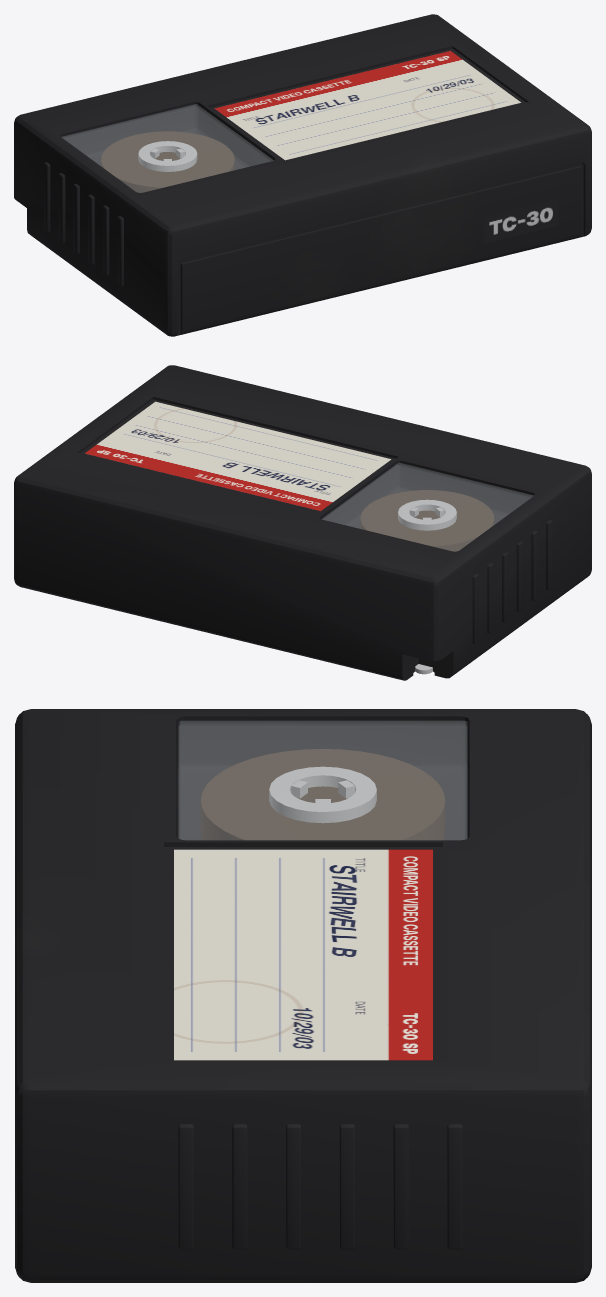
The model's file is Tape.glb.
3 renders of one model, top to bottom at view 1: azimuth 30°, elevation 25°; view 2: azimuth 150°, elevation 25°; view 3: azimuth 270°, elevation 25°, orthographic. The views are drawn at different scales.
Visible parts, largest first — view 1: Handle, Label, Window; view 2: Handle, Label, Window; view 3: Handle, Label, Window.
Part boxes in pixels (x1,y1,x2,y2): Handle: [14, 14, 591, 336]; Label: [214, 51, 520, 160]; Window: [61, 104, 273, 192]; Handle: [14, 365, 591, 680]; Label: [85, 401, 391, 510]; Window: [322, 463, 533, 551]; Handle: [15, 709, 591, 1282]; Label: [174, 849, 432, 1060]; Window: [178, 721, 467, 839].
Size of the model in its own units: 0.2718 by 0.0671 by 0.1724.
3 materials, 2 textured.
